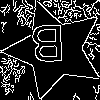B: (30, 24, 66, 72)
